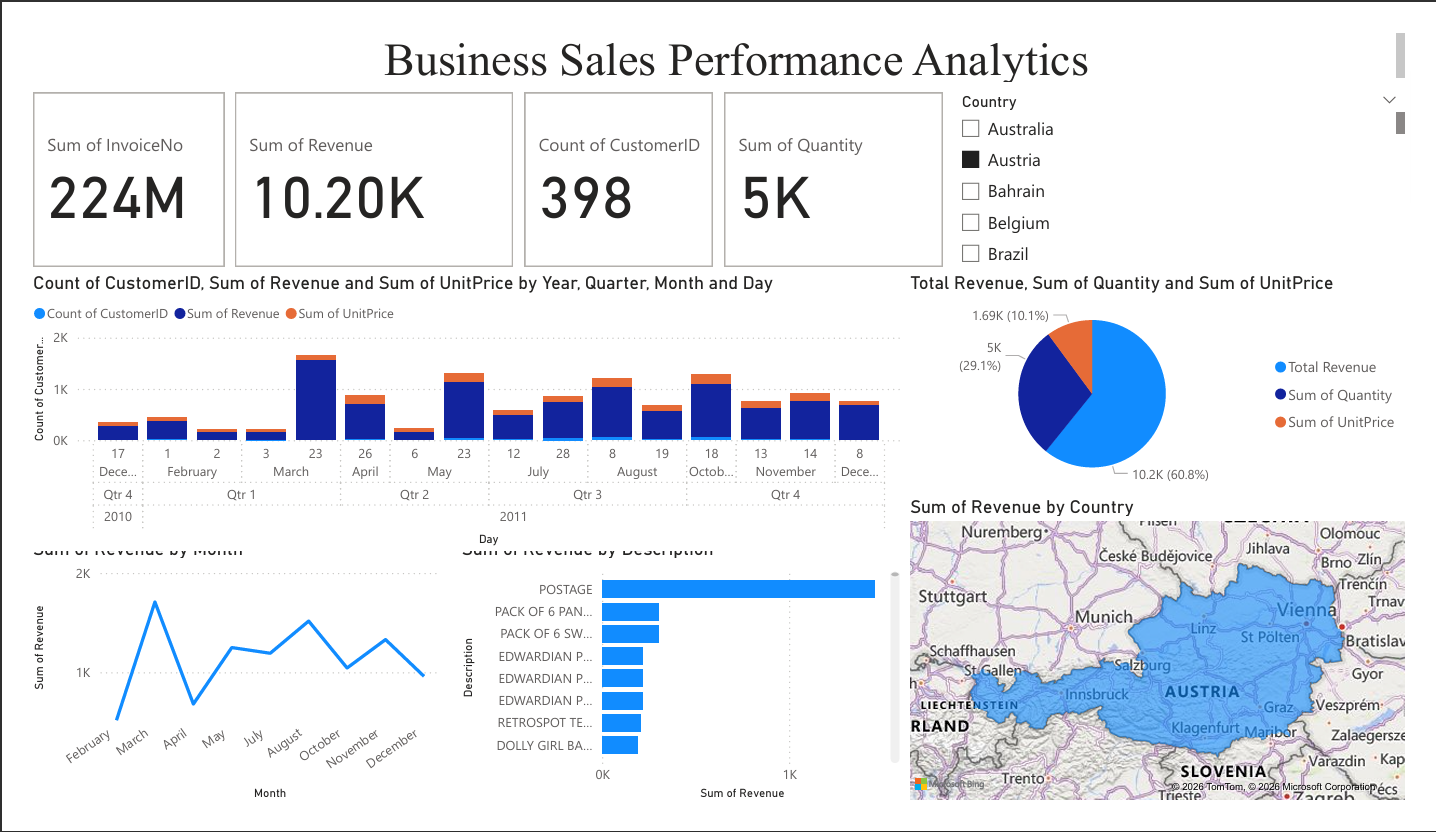

What the dashboard file says about the page in this screenshot:
{"tool":"powerbi","page":{"name":"Page 1","canvas":[1280,720],"ordinal":0},"visuals":[{"type":"cardVisual","fields":{"Data":["Sum(online_retail_cleaned_v2.InvoiceNo)"]},"box":[0,55,187.1,171.2],"z":0},{"type":"cardVisual","fields":{"Data":["Sum(online_retail_cleaned_v2.Revenue)"]},"box":[187.1,55,267.8,171.2],"z":1000},{"type":"cardVisual","fields":{"Data":["CountNonNull(online_retail_cleaned_v2.CustomerID)"]},"box":[454.9,55,184.6,171.2],"z":2000},{"type":"cardVisual","fields":{"Data":["Sum(online_retail_cleaned_v2.Quantity)"]},"box":[639.5,55,212.8,171.2],"z":3000},{"type":"lineChart","fields":{"Y":["Sum(online_retail_cleaned_v2.Revenue)"],"Category":["online_retail_cleaned_v2.InvoiceDate.Variation.Date Hierarchy.Month"]},"box":[0,472,386.4,248.2],"z":4000},{"type":"barChart","fields":{"Y":["Sum(online_retail_cleaned_v2.Revenue)"],"Category":["online_retail_cleaned_v2.Description"]},"box":[397.4,472,414.5,248.2],"z":5000},{"type":"filledMap","fields":{"Category":["online_retail_cleaned_v2.Country"]},"box":[812,432.9,468.3,287.4],"z":6000},{"type":"slicer","fields":{"Values":["online_retail_cleaned_v2.Country"]},"box":[852.3,55,428,171.2],"z":7000},{"type":"textbox","box":[0,0,1280.3,55],"z":8000},{"type":"columnChart","fields":{"Category":["online_retail_cleaned_v2.InvoiceDate.Variation.Date Hierarchy.Year","online_retail_cleaned_v2.InvoiceDate.Variation.Date Hierarchy.Quarter","online_retail_cleaned_v2.InvoiceDate.Variation.Date Hierarchy.Month","online_retail_cleaned_v2.InvoiceDate.Variation.Date Hierarchy.Day"],"Y":["CountNonNull(online_retail_cleaned_v2.CustomerID)","Sum(online_retail_cleaned_v2.Revenue)","Sum(online_retail_cleaned_v2.UnitPrice)"]},"box":[0,226.2,812,259.2],"z":9000},{"type":"pieChart","fields":{"Y":["online_retail_cleaned_v2.Total Revenue","Sum(online_retail_cleaned_v2.Quantity)","Sum(online_retail_cleaned_v2.UnitPrice)"]},"box":[812,226.2,468.3,206.7],"z":9001}]}

Visuals, with their boxes in screenshot pixels (x1, y1, x2, y2), scaled from the page's 1280x720 canvas onto the 1436x832 screenshot:
cardVisual - Sum(online_retail_cleaned_v2.InvoiceNo): box(0, 64, 210, 261)
cardVisual - Sum(online_retail_cleaned_v2.Revenue): box(210, 64, 510, 261)
cardVisual - CountNonNull(online_retail_cleaned_v2.CustomerID): box(510, 64, 717, 261)
cardVisual - Sum(online_retail_cleaned_v2.Quantity): box(717, 64, 956, 261)
lineChart - Sum(online_retail_cleaned_v2.Revenue) x online_retail_cleaned_v2.InvoiceDate.Variation.Date Hierarchy.Month: box(0, 545, 433, 831)
barChart - Sum(online_retail_cleaned_v2.Revenue) x online_retail_cleaned_v2.Description: box(446, 545, 911, 831)
filledMap - online_retail_cleaned_v2.Country: box(911, 500, 1435, 831)
slicer - online_retail_cleaned_v2.Country: box(956, 64, 1435, 261)
textbox: box(0, 0, 1435, 64)
columnChart - online_retail_cleaned_v2.InvoiceDate.Variation.Date Hierarchy.Year x online_retail_cleaned_v2.InvoiceDate.Variation.Date Hierarchy.Quarter: box(0, 261, 911, 561)
pieChart - online_retail_cleaned_v2.Total Revenue x Sum(online_retail_cleaned_v2.Quantity): box(911, 261, 1435, 500)
